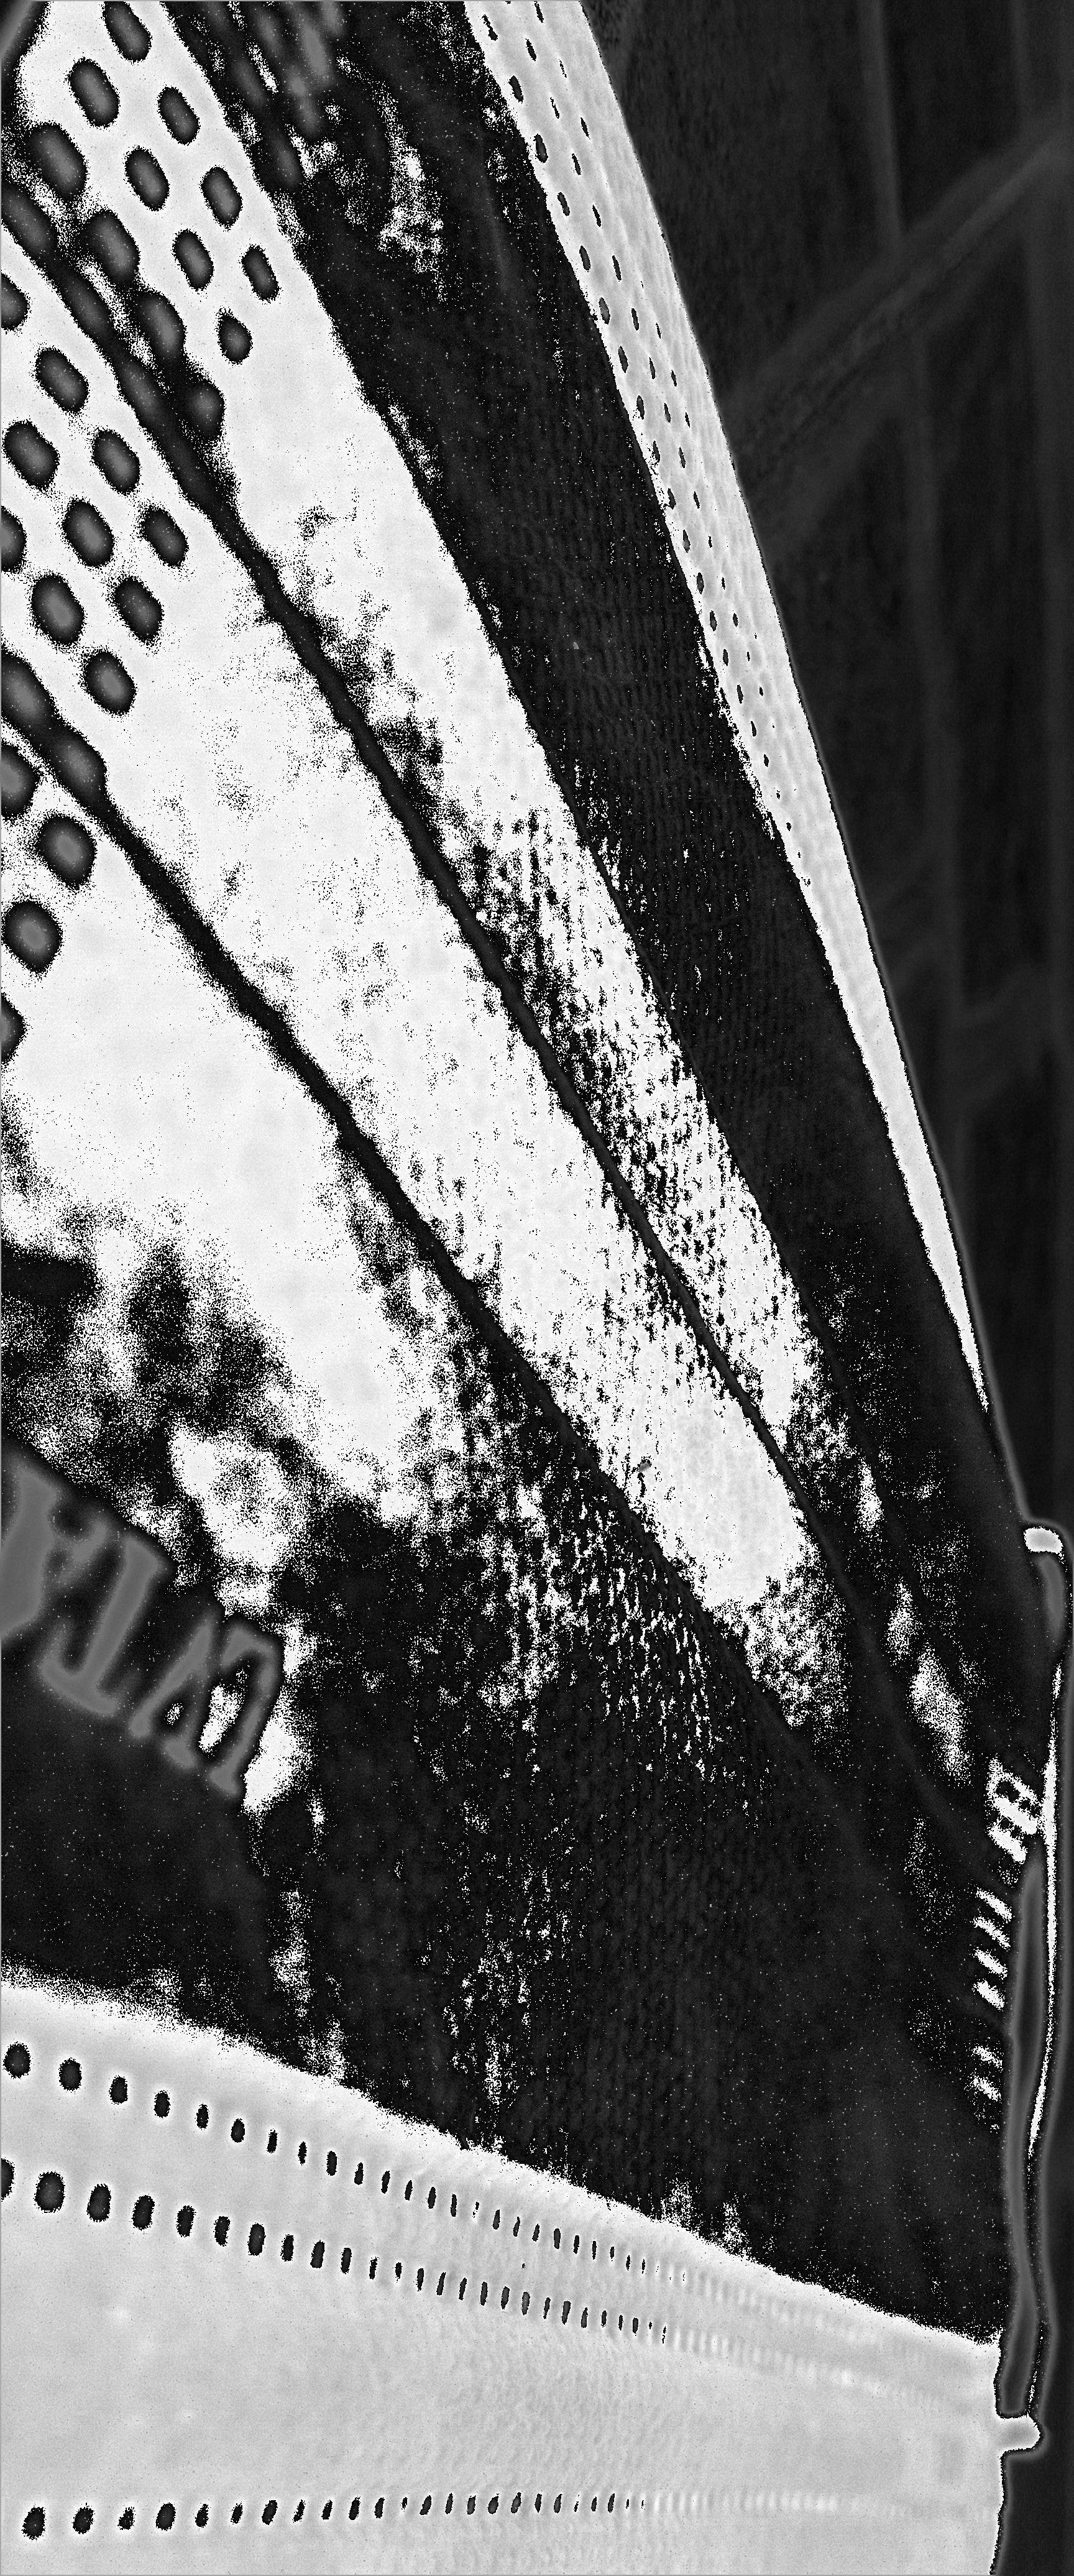High GSM: (365, 1206, 916, 1993), (33, 1020, 721, 1352), (348, 376, 609, 1160)
